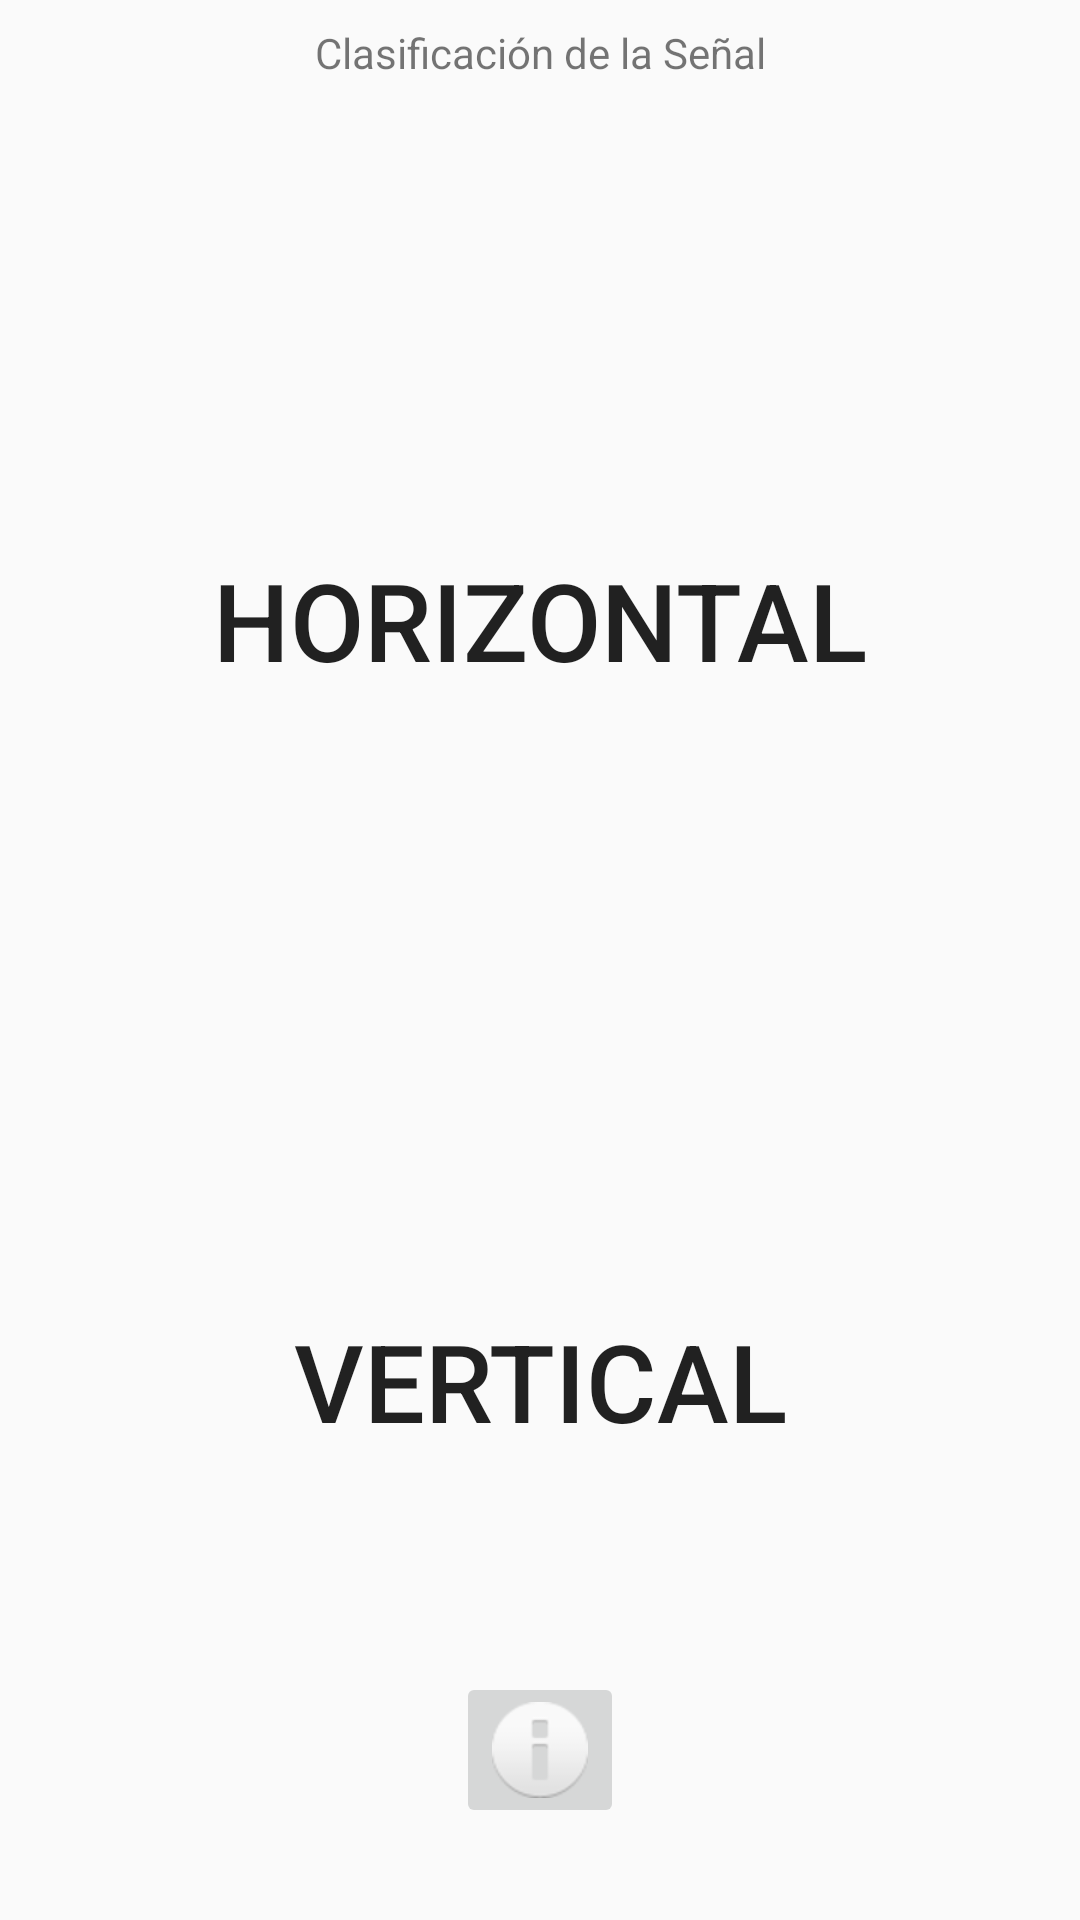

Where icons sit on this 1080x1920 app screen, as box=[x1, y1, x2, y2]:
Información: box=[468, 1690, 612, 1810]
